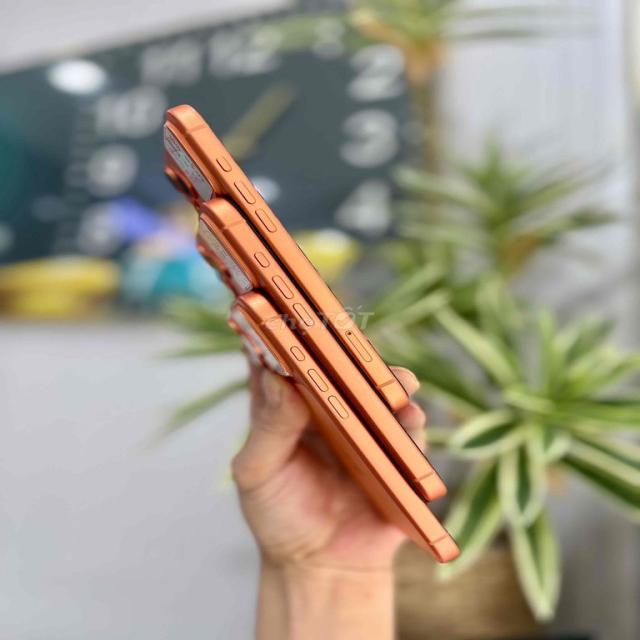gen_17: (164, 102, 475, 568)
